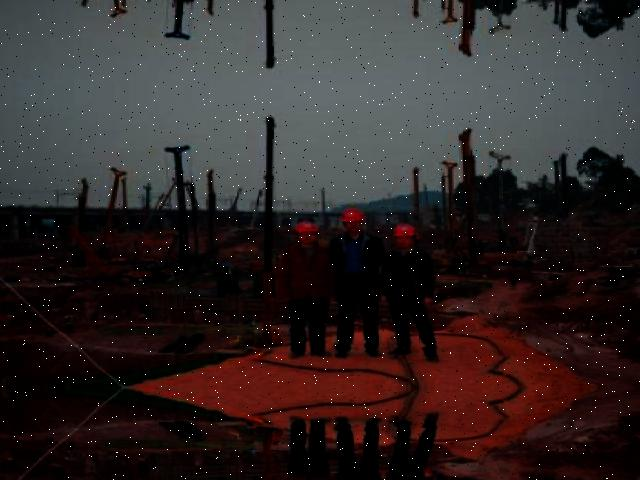Helmet: (339, 204, 370, 228), (392, 219, 425, 241), (295, 214, 323, 236)
